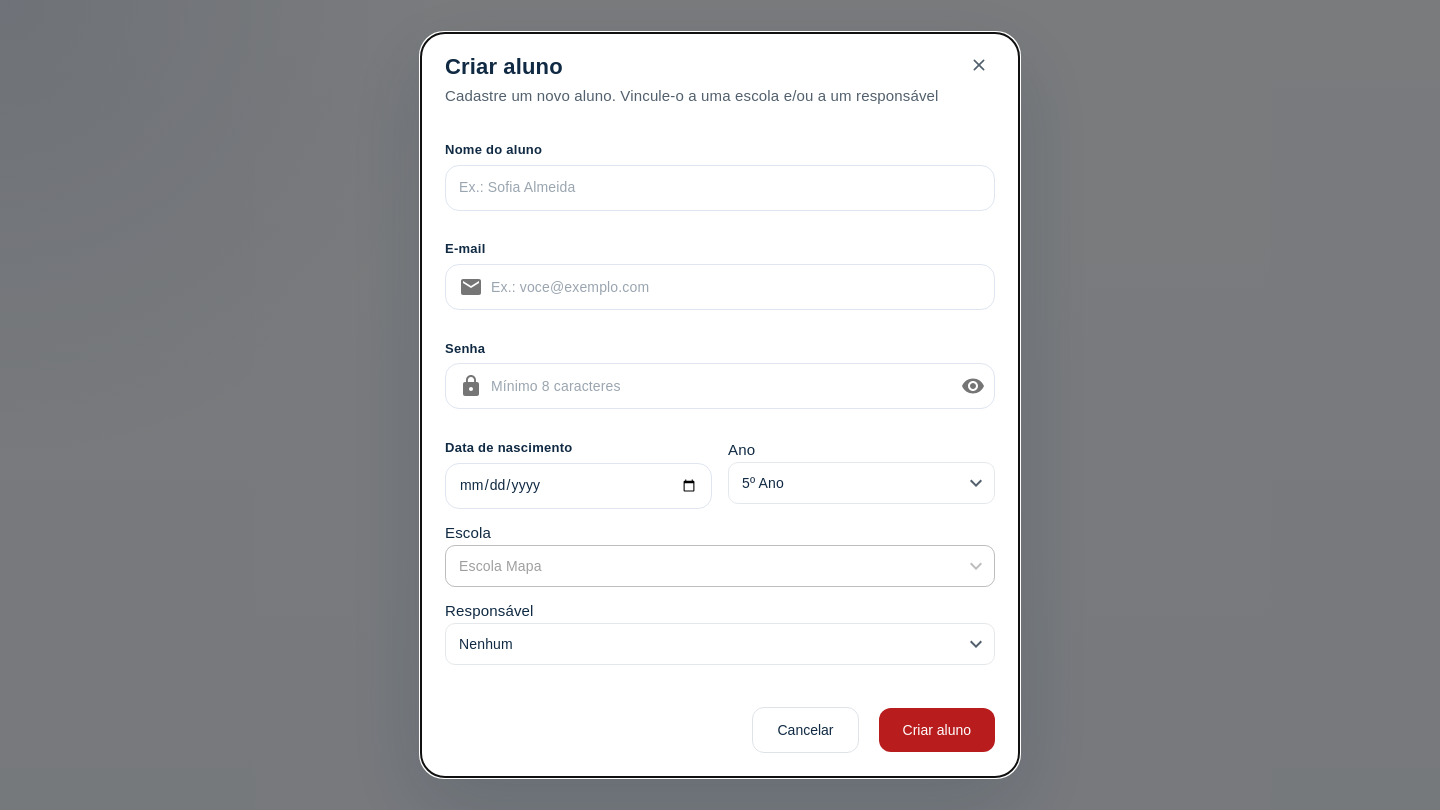
Test: CreateStudentModal validates the surname while the user types
Expected: the text "Informe o sobrenome do aluno." is not shown
Type "Sofia" into the field labelled "Nome do aluno" at (720, 188), box [445,161,995,214]
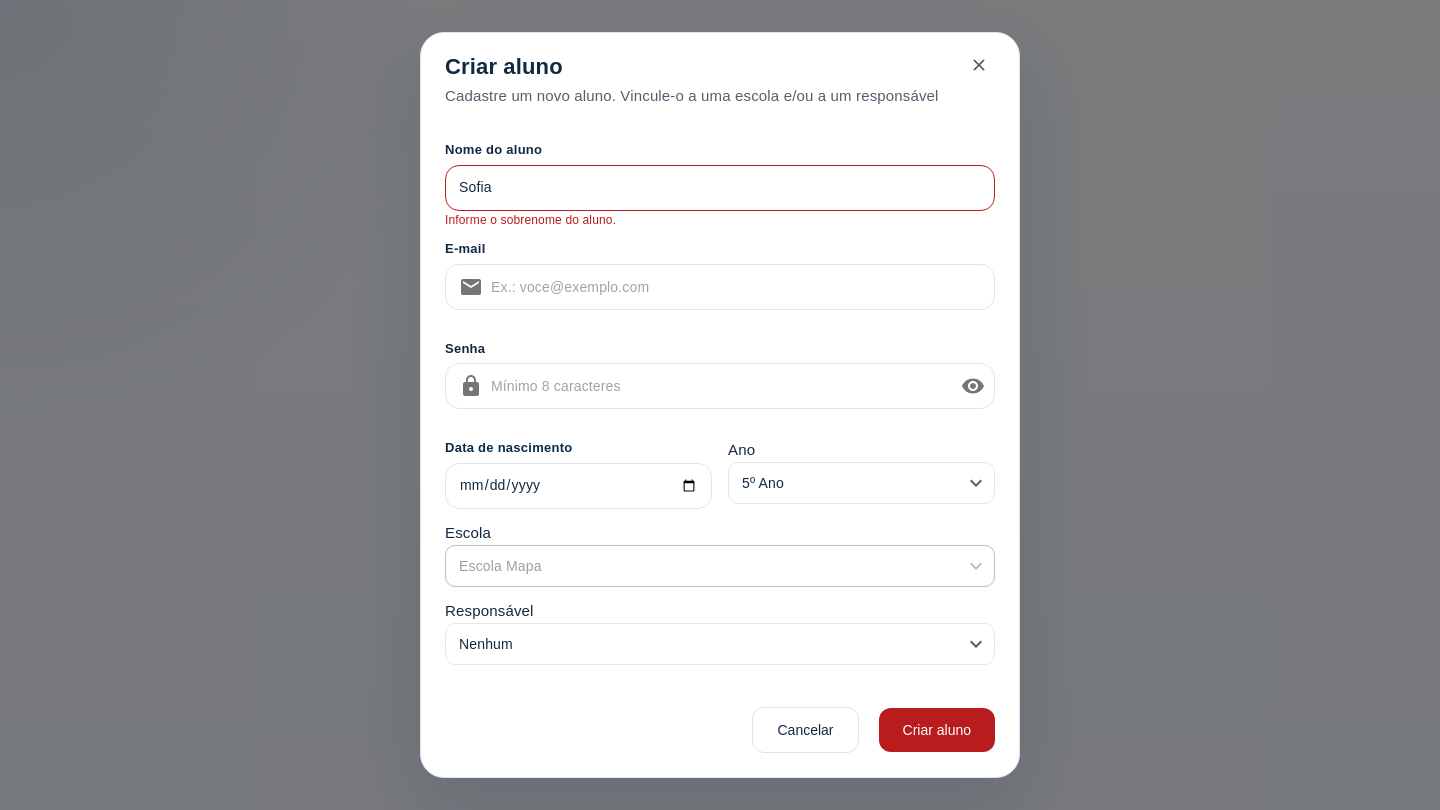
Now the text "Informe o sobrenome do aluno." is shown, box [445,213,616,227]
Type " Almeida" into the field labelled "Nome do aluno" at (720, 188), box [445,161,995,214]
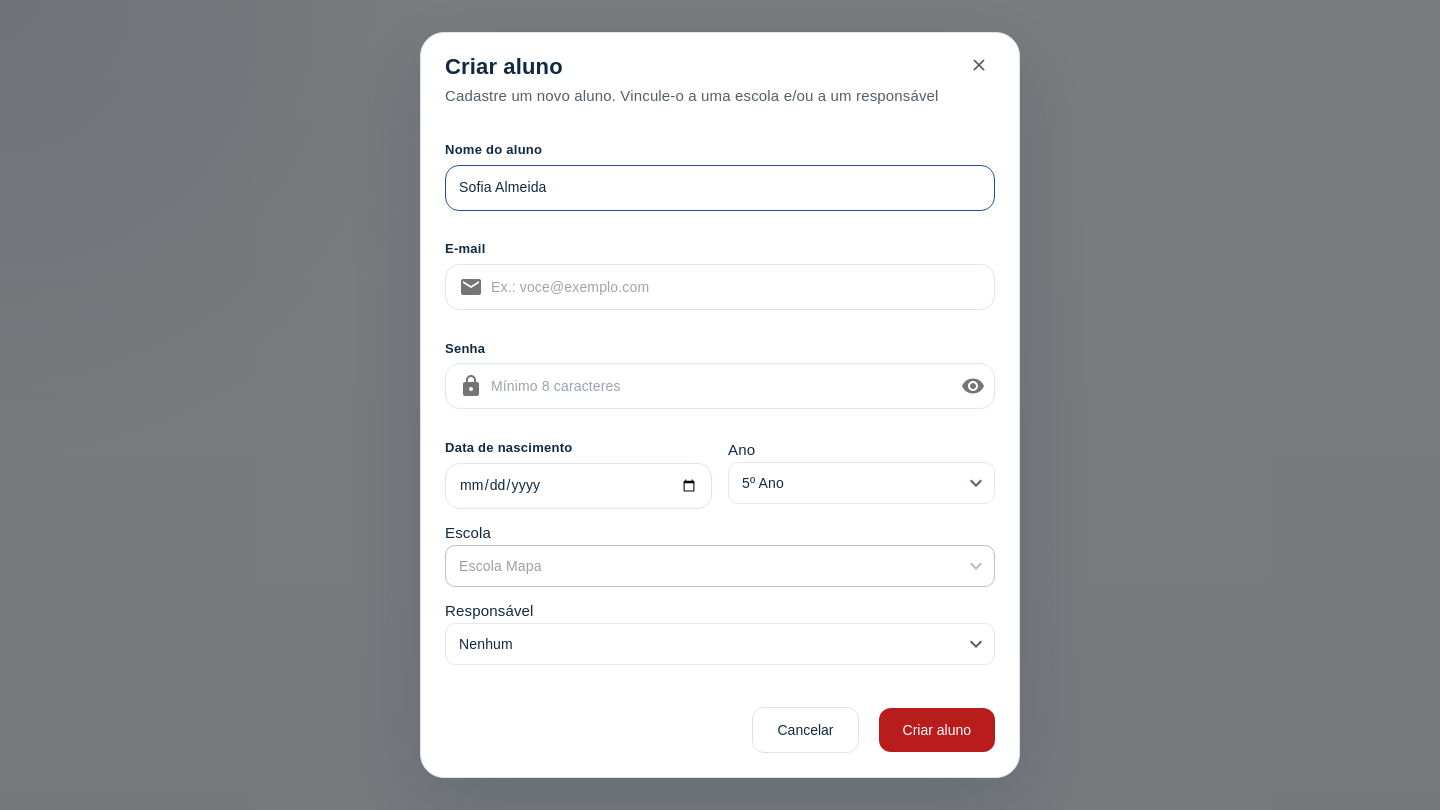
Now the text "Informe o sobrenome do aluno." is gone
Type "sofia@mapa.com" into the field labelled "E-mail" at (743, 287), box [491,261,995,314]
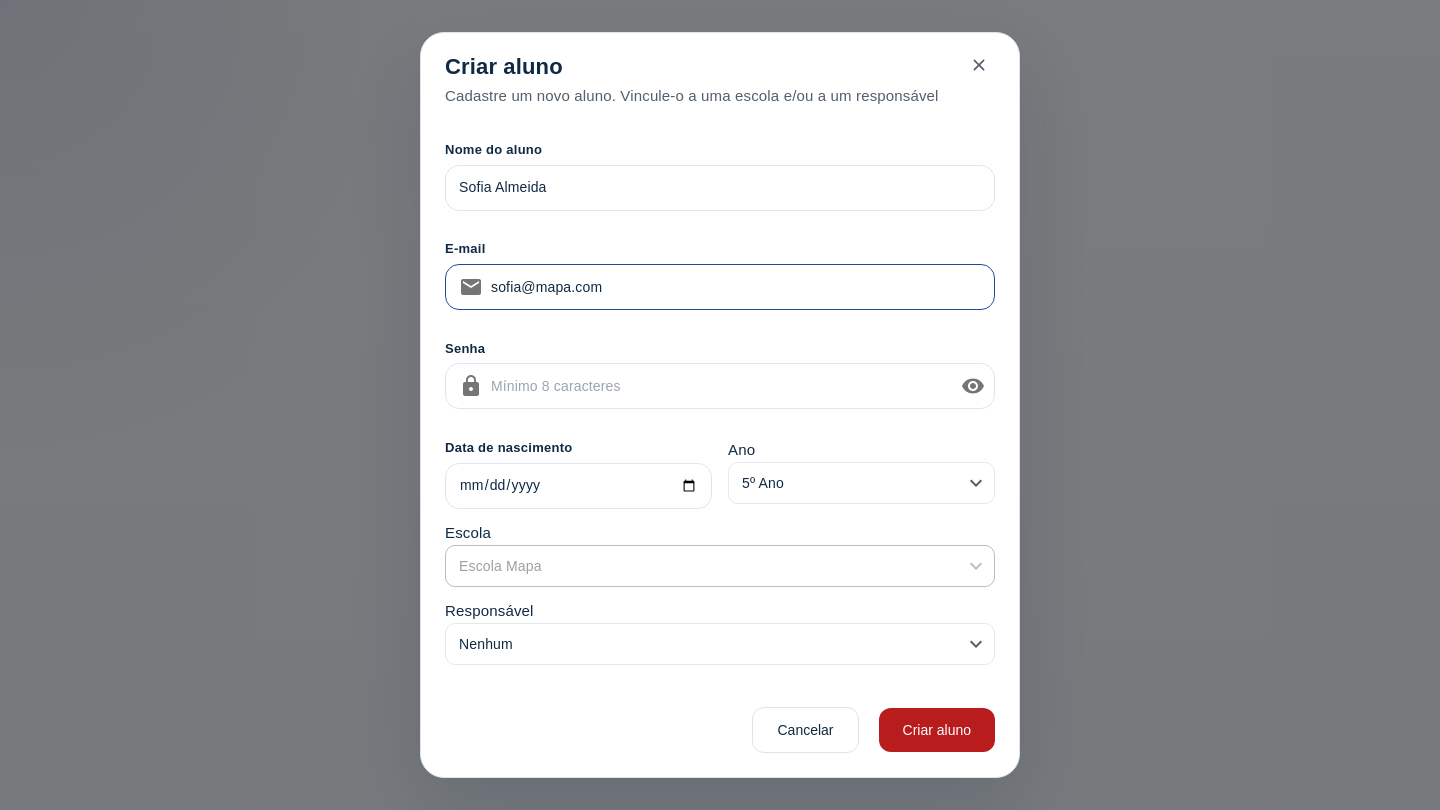
Type "12345678" into the password field labelled "Senha" at (718, 386), box [491,360,945,413]
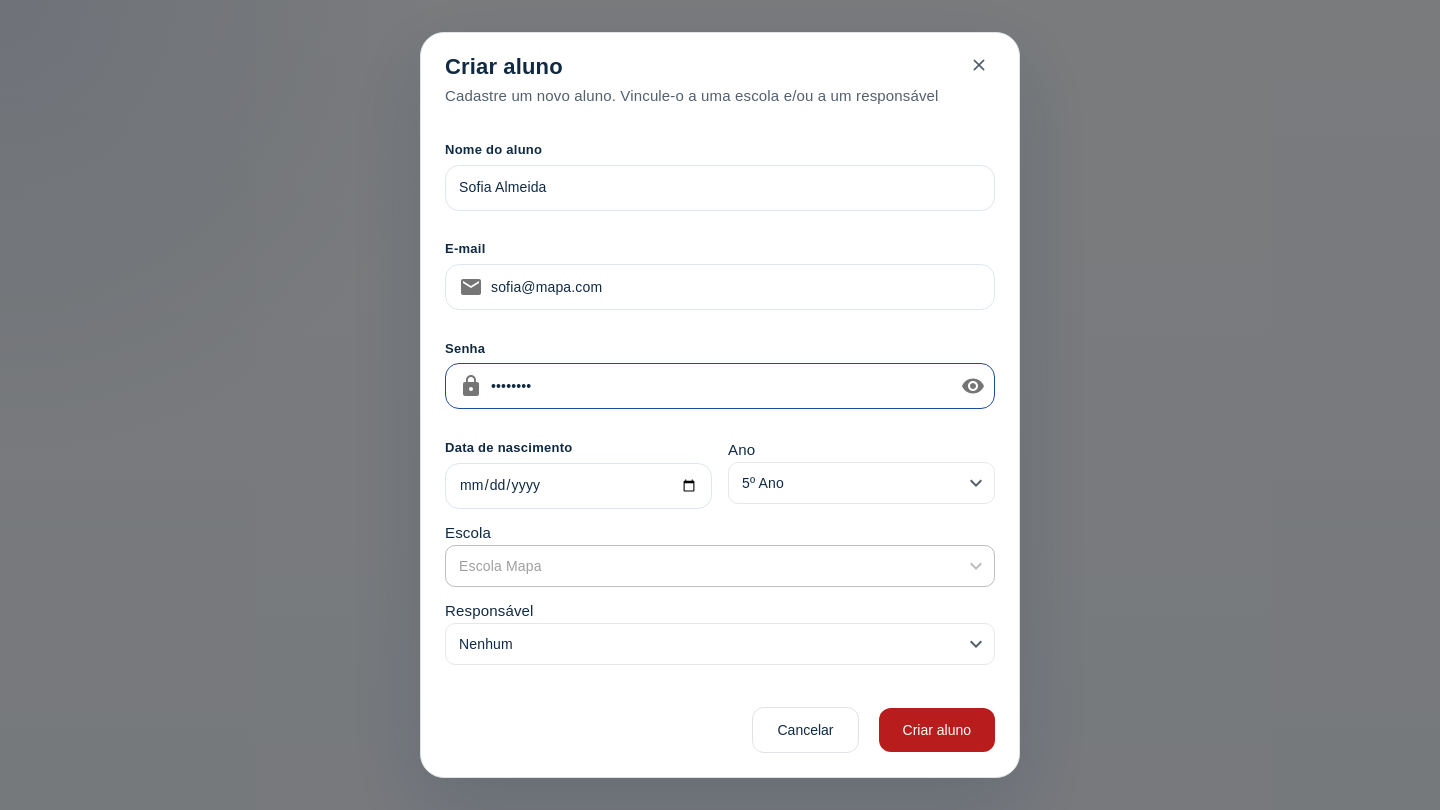
Click the button "Criar aluno" at (937, 730), box [878,708,995,752]
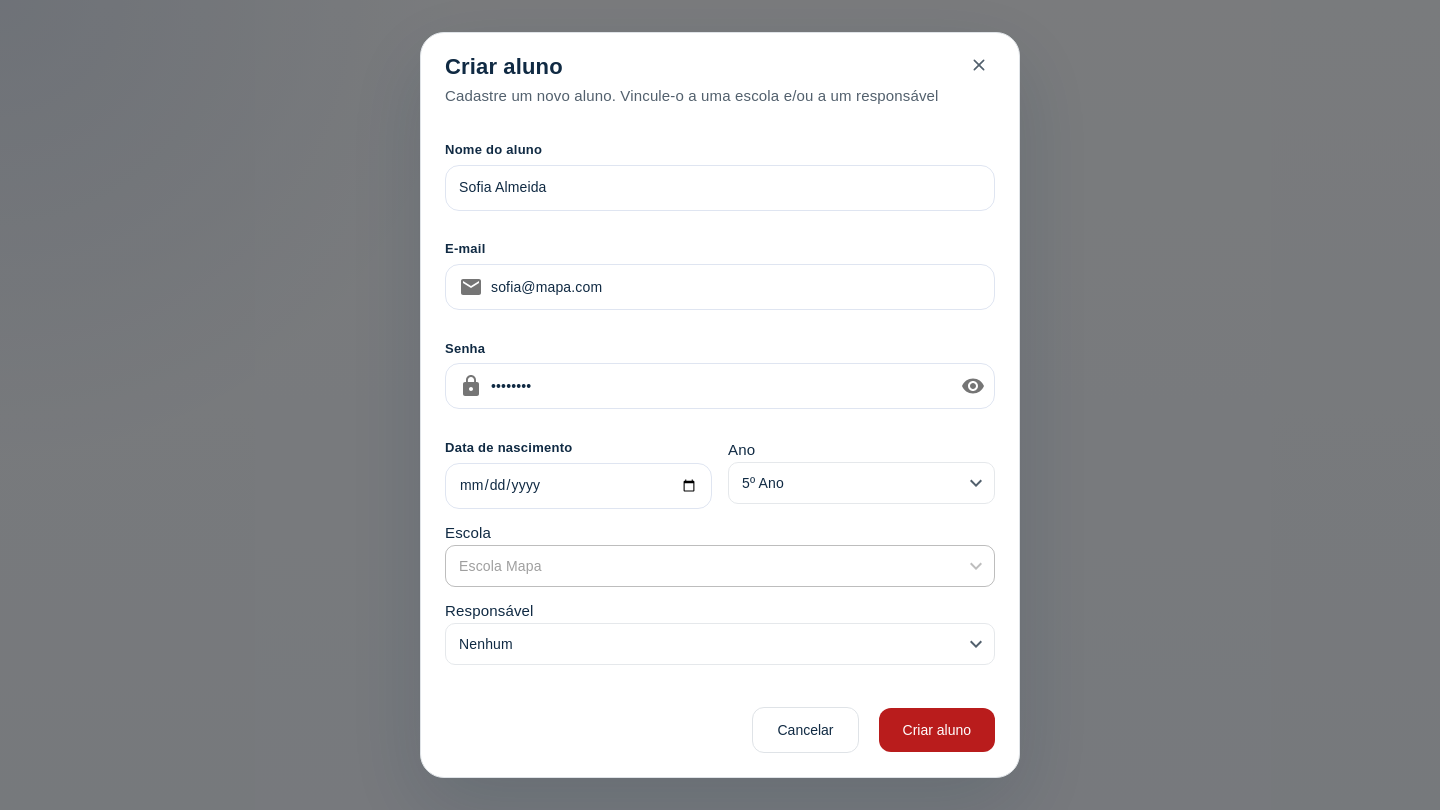
Clear the field labelled "Nome do aluno" at (720, 188), box [445,161,995,214]
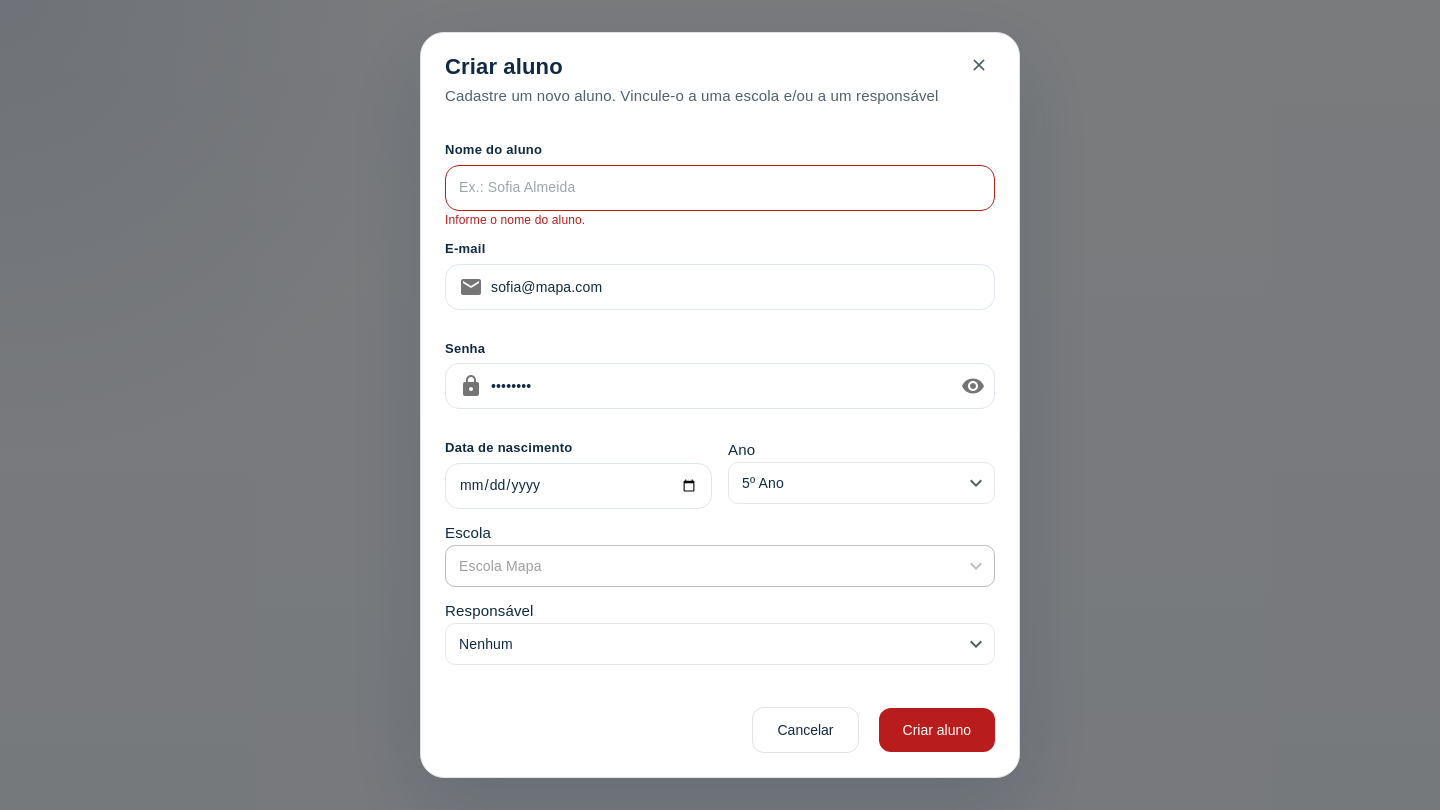
Now the text "Informe o nome do aluno." is shown, box [445,213,585,227]
